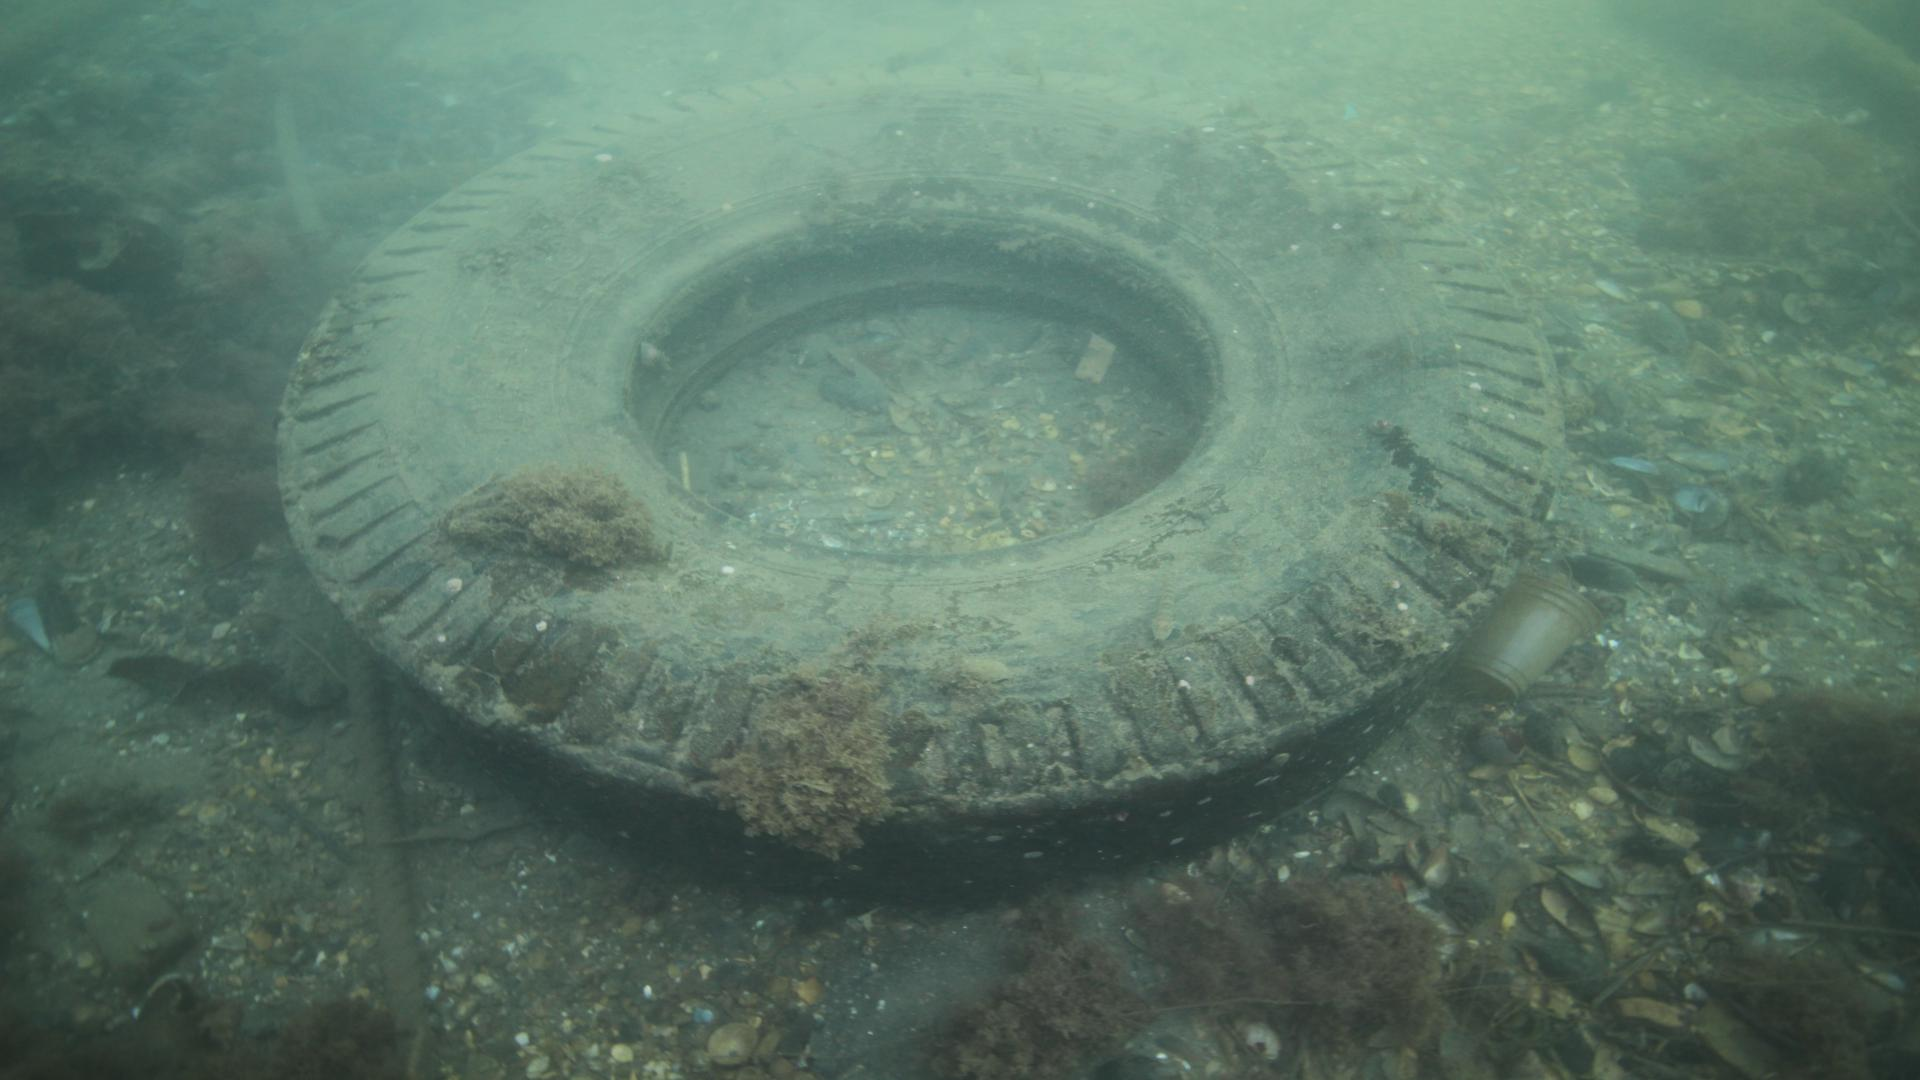rope: (338, 626, 436, 1080)
tire: (270, 66, 1568, 907)
